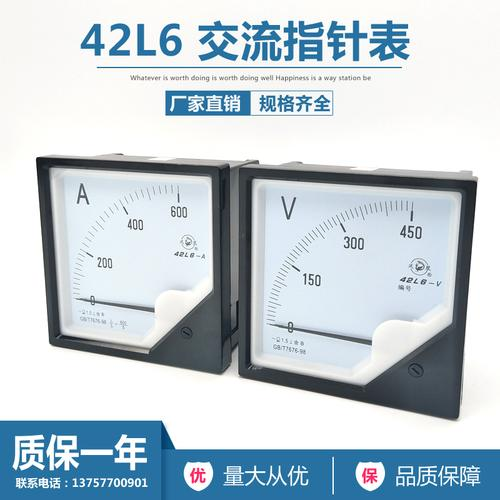pointer: (251, 176, 457, 388), (47, 168, 213, 349)
